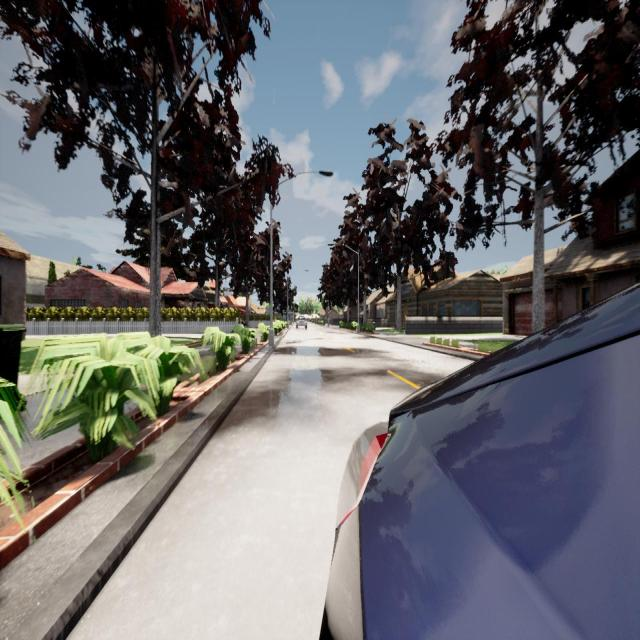Vehicle: (320, 284, 640, 638), (296, 315, 308, 330)
